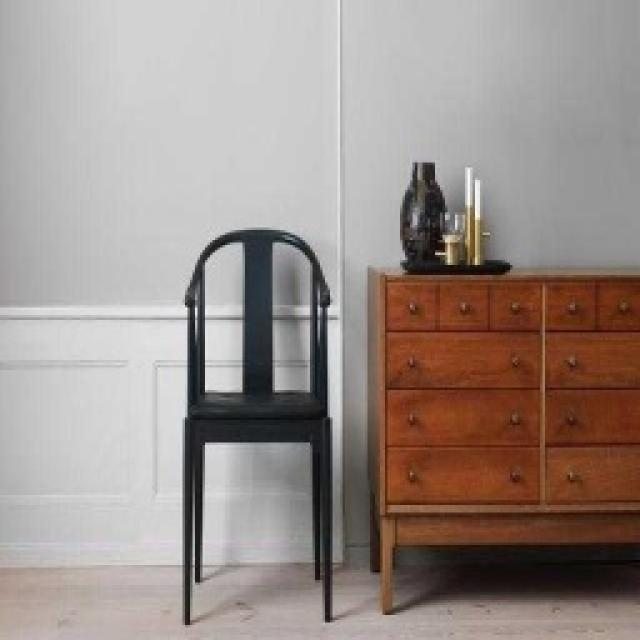sandalye: (180, 227, 332, 625)
